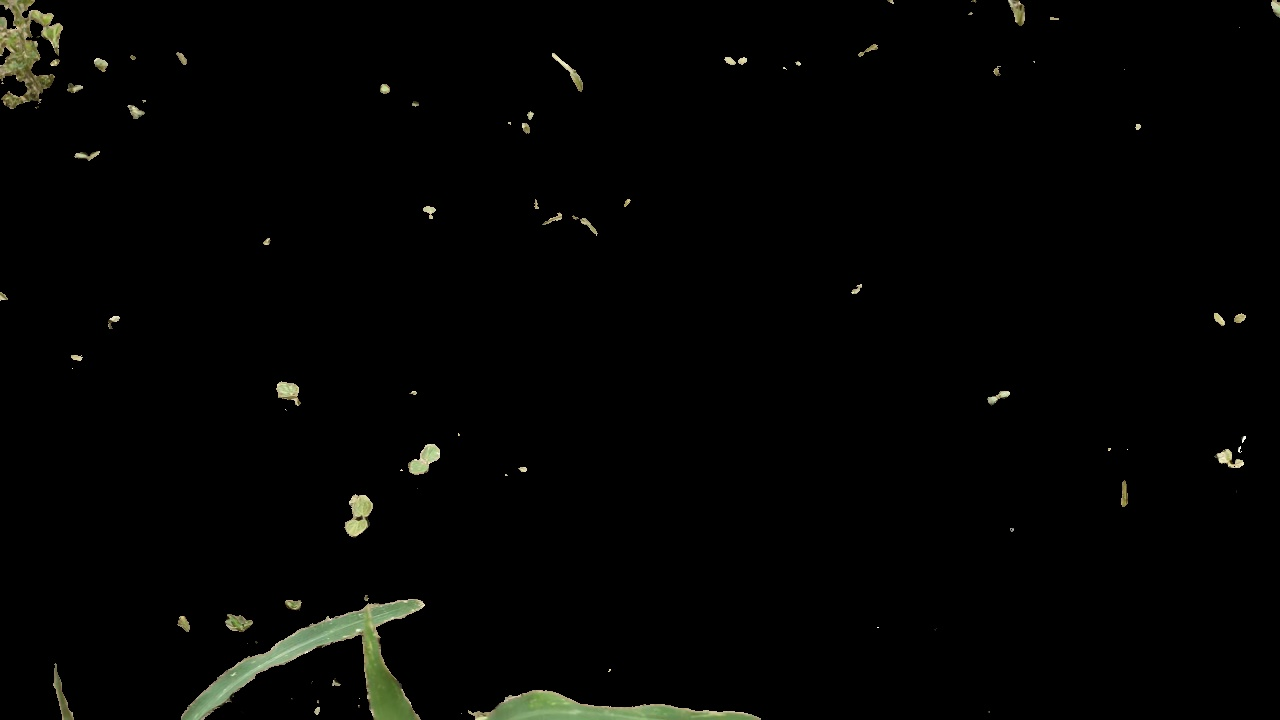crop: (11, 557, 443, 720), (342, 594, 779, 720)
weed: (3, 11, 81, 107), (401, 425, 455, 478), (336, 485, 379, 545), (1202, 431, 1256, 472), (56, 142, 118, 174), (222, 604, 261, 641), (1202, 297, 1249, 327), (979, 389, 1029, 417), (265, 381, 309, 408)
